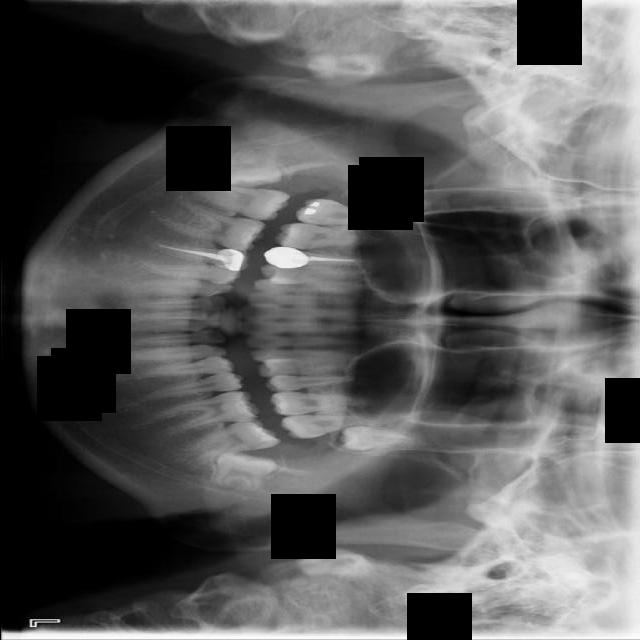3M ESPE Implant: (354, 187, 430, 219)
52: (294, 198, 343, 226), (260, 244, 308, 272), (209, 245, 250, 274)
73: (144, 238, 216, 264), (303, 249, 365, 267), (71, 578, 85, 584)
BioHorizons Implant: (278, 412, 397, 440)
BioLife Implant: (337, 423, 408, 452)
Biomet 3i Implant: (212, 448, 278, 495)
Blue Sky Bio Implant: (182, 412, 281, 466)
Caries: (294, 197, 419, 231)
Implant: (190, 179, 290, 224)
Keystone Dental Implant: (210, 136, 284, 193)
